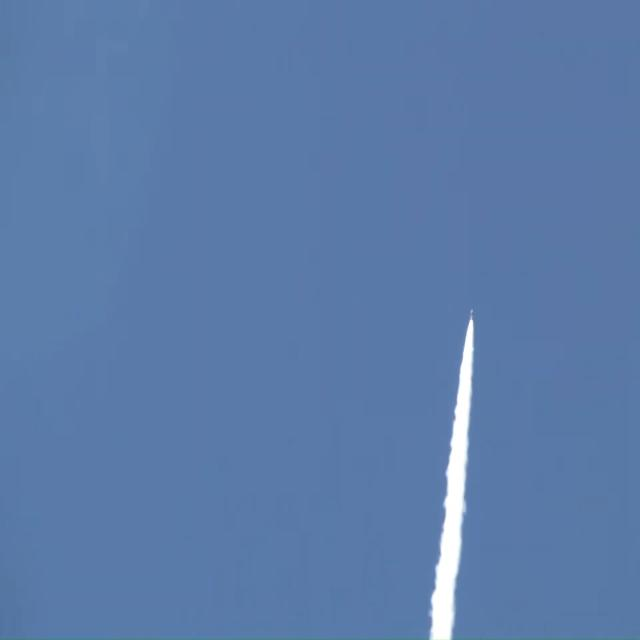Rocket: (471, 309, 474, 322)
